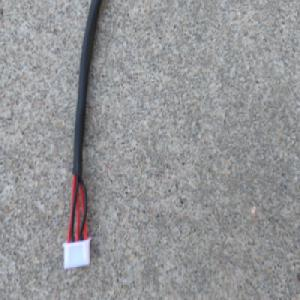Wire: (60, 0, 101, 272)
